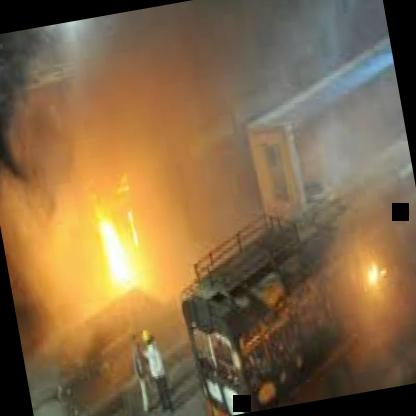fire: (51, 168, 159, 302), (340, 236, 400, 311)
